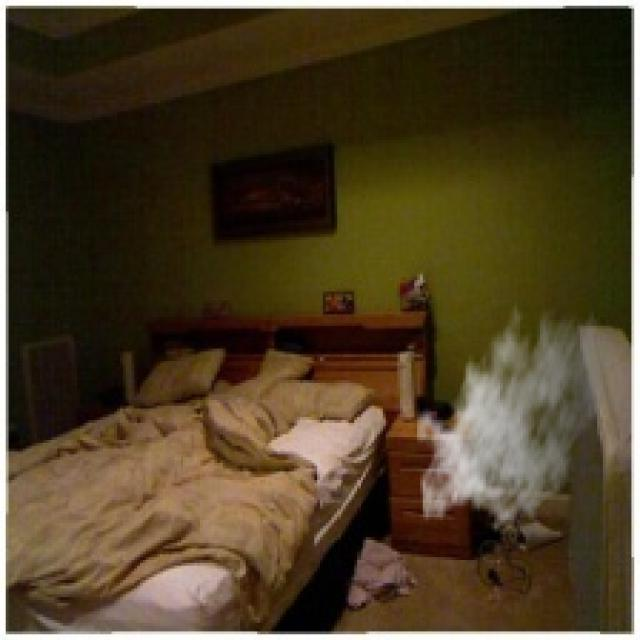Smoke: (414, 292, 614, 534)
